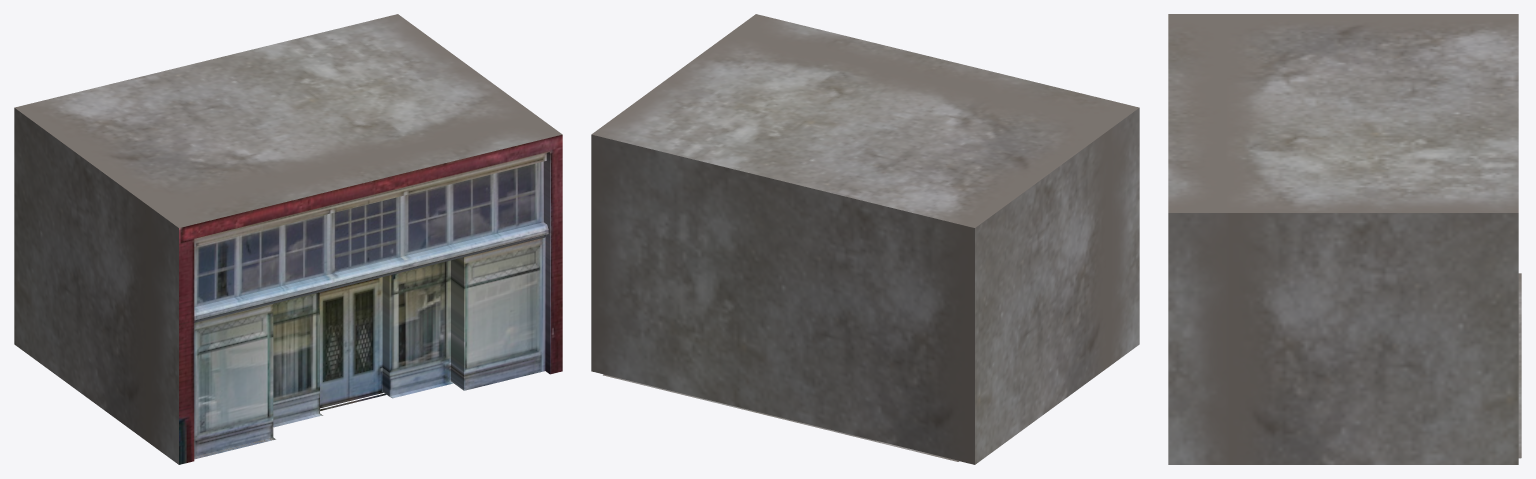
File: STORE_02.fbx
3 views of the same model, side by side, from view 1: azimuth 30°, elevation 25°; view 2: azimuth 150°, elevation 25°; view 3: azimuth 270°, elevation 25° (orthographic). The views are drawn at different scales.
Parts seen in each view (by area): view 1: STORE_02; view 2: STORE_02; view 3: STORE_02.
Boxes of the visible parts, x1=… form: STORE_02: x1=14, y1=14, x2=562, y2=464; STORE_02: x1=591, y1=14, x2=1139, y2=464; STORE_02: x1=1168, y1=14, x2=1521, y2=464.
Size of the model in its own units: 918 by 542 by 689.
